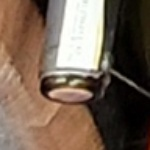bottle: (24, 38, 113, 123)
